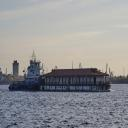tugboat: (9, 60, 50, 94)
